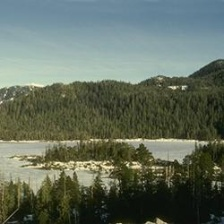neutral: (3, 3, 222, 222)
